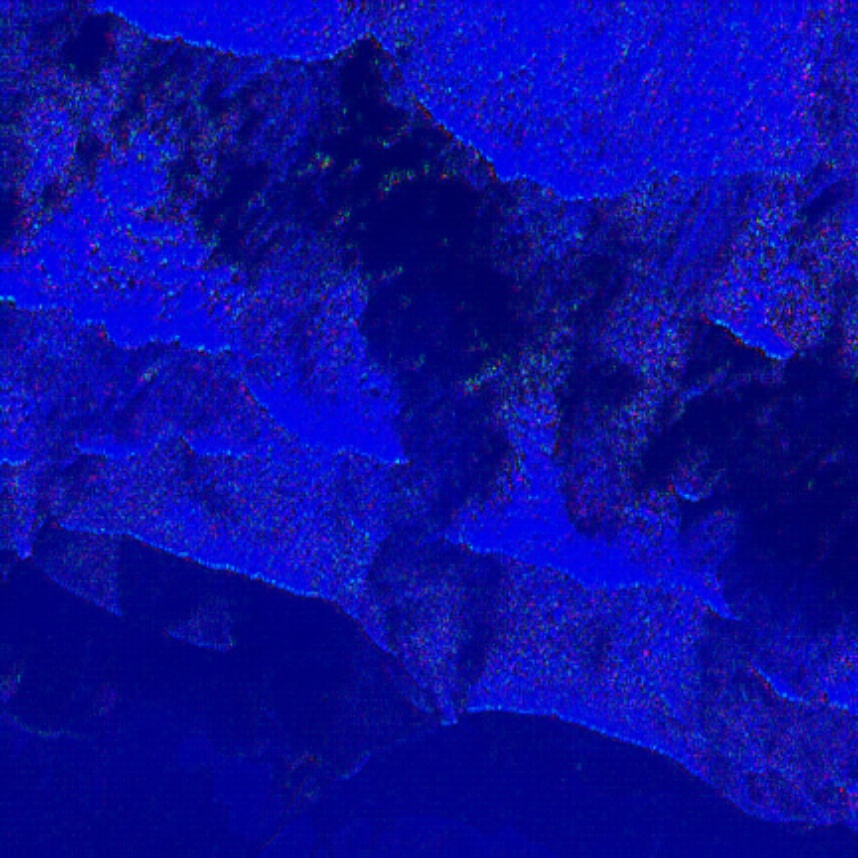rip_current: (249, 67, 610, 656)
